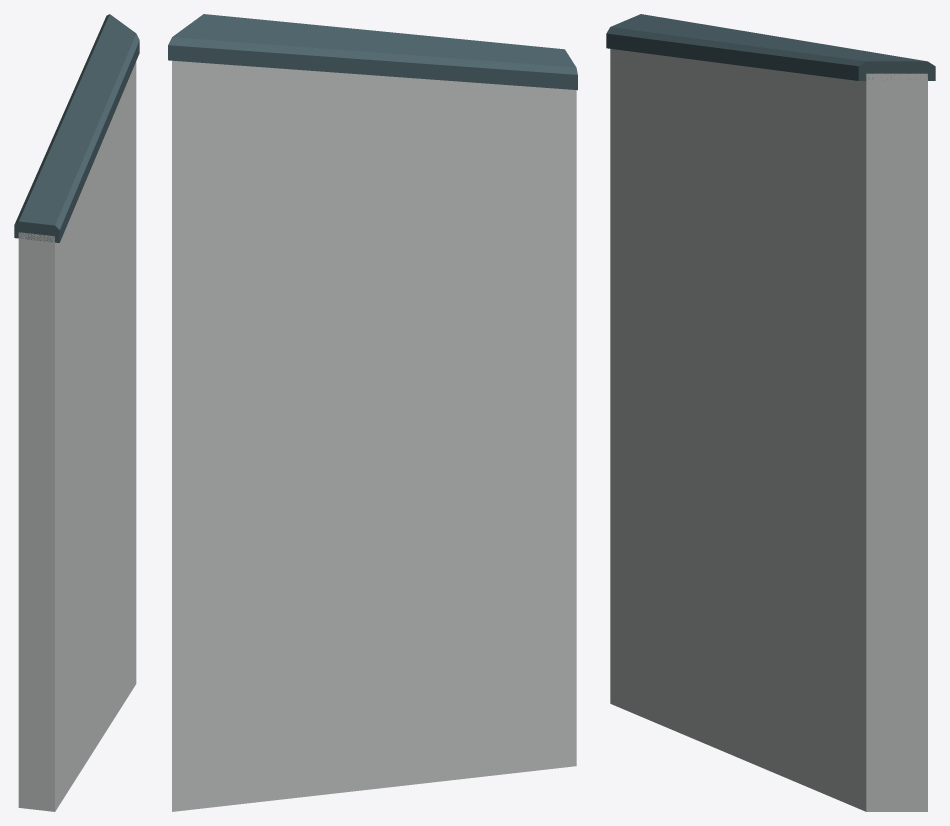
The model's file is halfwall_45_port_rise_5_miter_7071_-7071_0_-14142.glb.
The picture shows the model from 3 angles, left to right: view 1: azimuth 30°, elevation 25°; view 2: azimuth 150°, elevation 25°; view 3: azimuth 270°, elevation 25°; orthographic projection. The views are drawn at different scales.
Visible parts, largest first — view 1: Seamless solid halfwall.088, Seamless top cap.088; view 2: Seamless solid halfwall.088, Seamless top cap.088; view 3: Seamless solid halfwall.088, Seamless top cap.088.
Part boxes in pixels (x1=…): Seamless solid halfwall.088: x1=18, y1=61, x2=136, y2=811; Seamless top cap.088: x1=14, y1=14, x2=139, y2=242; Seamless solid halfwall.088: x1=172, y1=60, x2=576, y2=811; Seamless top cap.088: x1=168, y1=14, x2=577, y2=90; Seamless solid halfwall.088: x1=610, y1=49, x2=927, y2=811; Seamless top cap.088: x1=606, y1=14, x2=935, y2=80.
Size of the model in its own units: 0.5354 by 1.52 by 0.6061.
